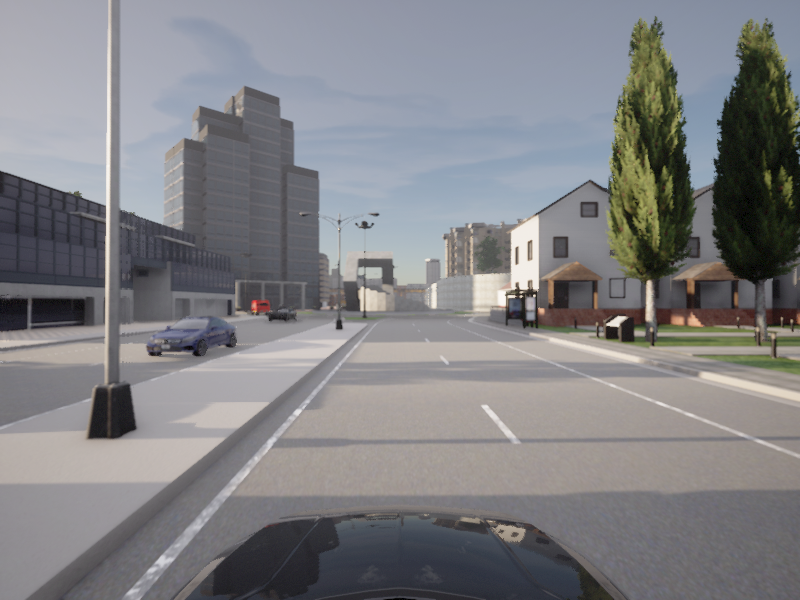vehicle: (139, 315, 242, 360), (0, 264, 6, 451), (264, 306, 298, 322)
